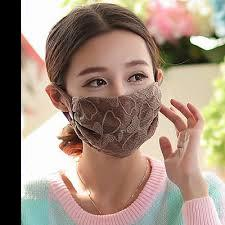OK: (74, 58, 161, 155)
